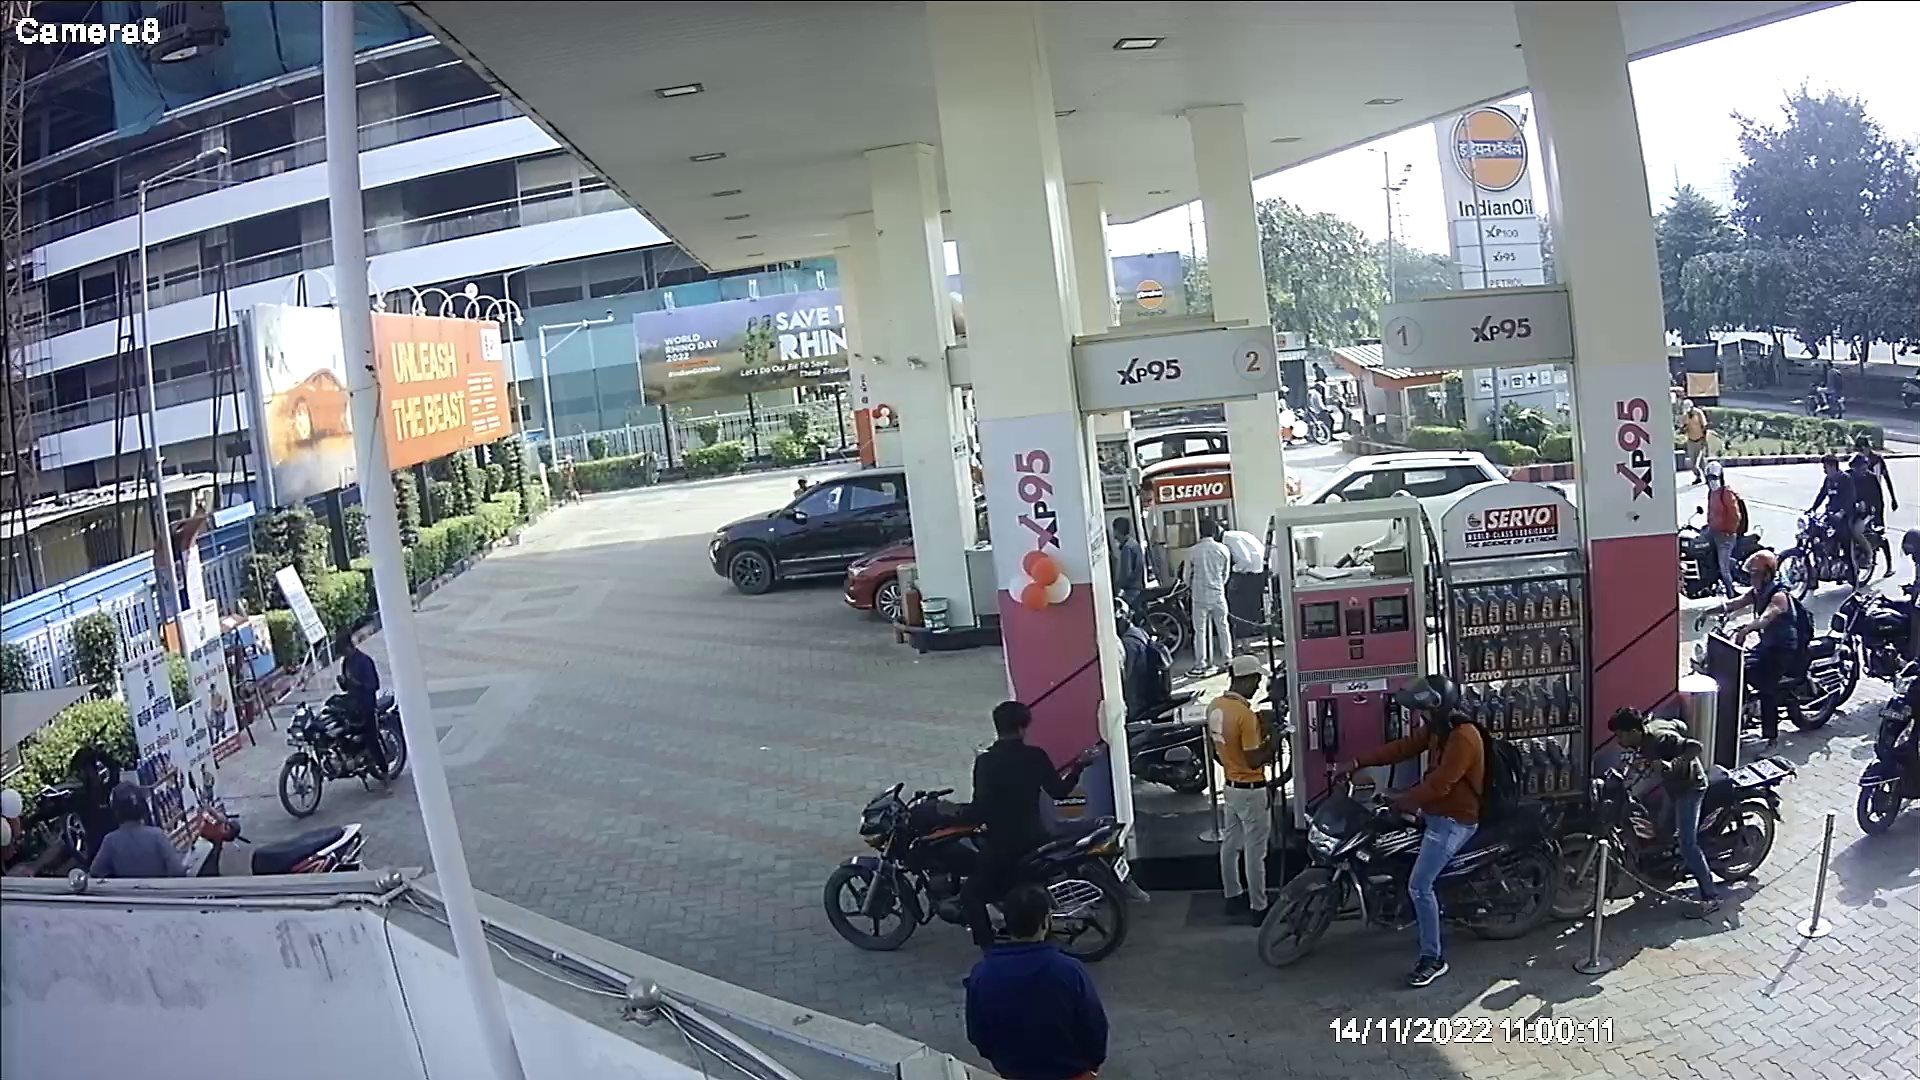Bike: (1245, 658, 1594, 986), (815, 694, 1156, 996), (1535, 699, 1800, 940), (1676, 539, 1862, 754), (268, 570, 425, 814), (167, 754, 375, 878), (1764, 431, 1905, 600), (1110, 585, 1216, 800), (16, 713, 135, 881), (1836, 620, 1920, 847), (1669, 454, 1784, 620), (1818, 513, 1915, 698), (1098, 506, 1195, 671)
Car: (1247, 433, 1538, 613), (698, 458, 916, 601), (833, 512, 920, 632)
Others: (1197, 646, 1286, 932), (1675, 386, 1722, 498)
